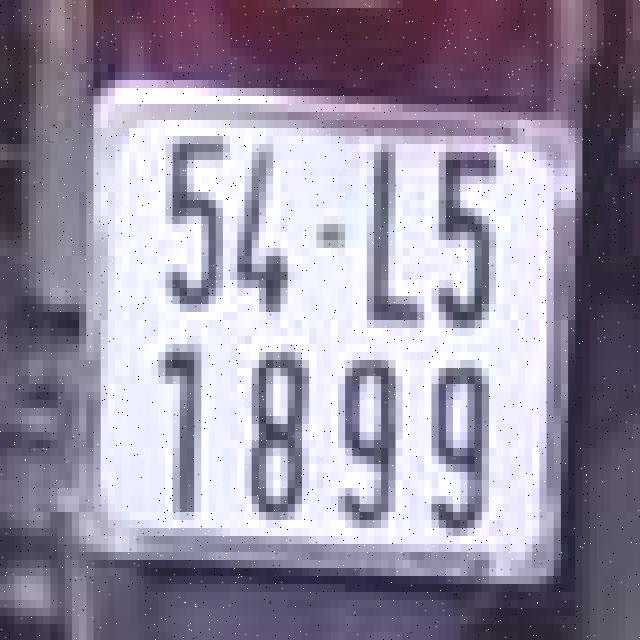1: (162, 336, 219, 544)
4: (237, 128, 302, 320)
5: (435, 136, 507, 344), (162, 120, 234, 320)
8: (234, 344, 313, 536)
9: (327, 352, 406, 544), (428, 360, 500, 544)
L: (352, 140, 424, 332)
